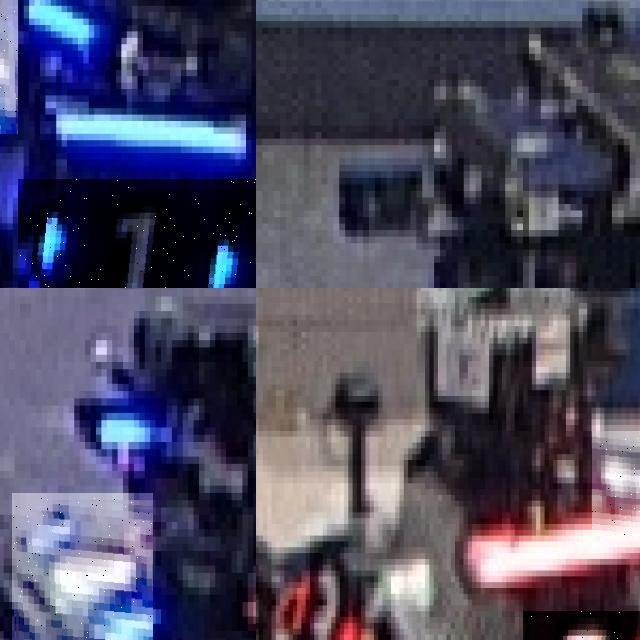B1: (18, 178, 256, 288)
B4: (12, 492, 153, 640)
R3: (288, 553, 361, 640), (591, 431, 640, 535)
